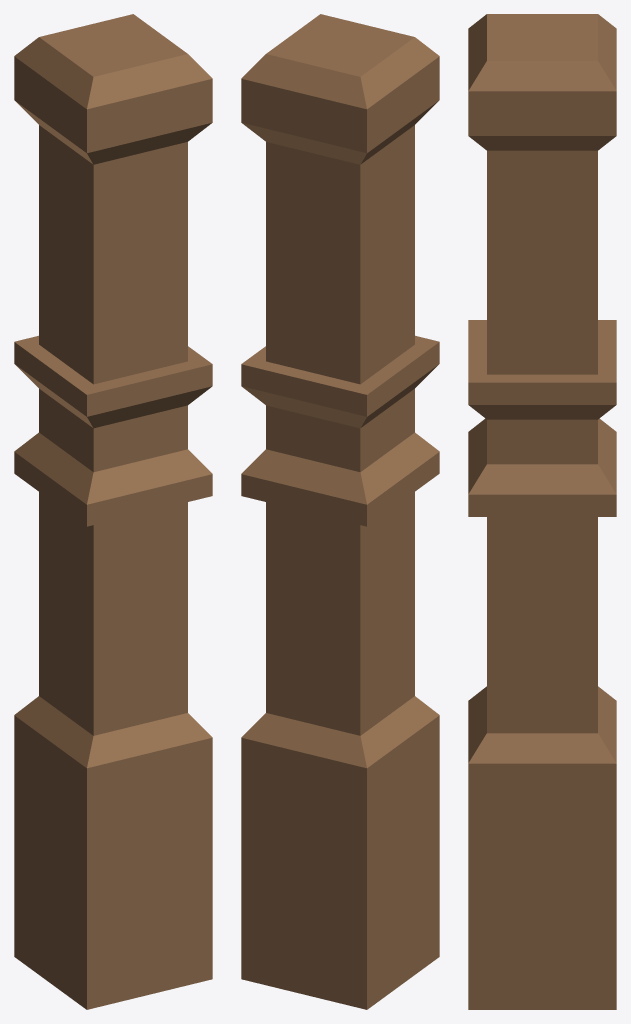
File: Stairs_Post.obj
The picture shows the model from 3 angles, left to right: view 1: azimuth 30°, elevation 25°; view 2: azimuth 150°, elevation 25°; view 3: azimuth 270°, elevation 25°; orthographic projection. The views are drawn at different scales.
Visible parts, largest first — view 1: object1; view 2: object1; view 3: object1.
Part boxes in pixels (bbox=[...]): object1: bbox=[14, 14, 212, 1009]; object1: bbox=[241, 14, 439, 1009]; object1: bbox=[468, 14, 616, 1009].
Bounding box in the file's own units: 0.15 × 1.05 × 0.15.
